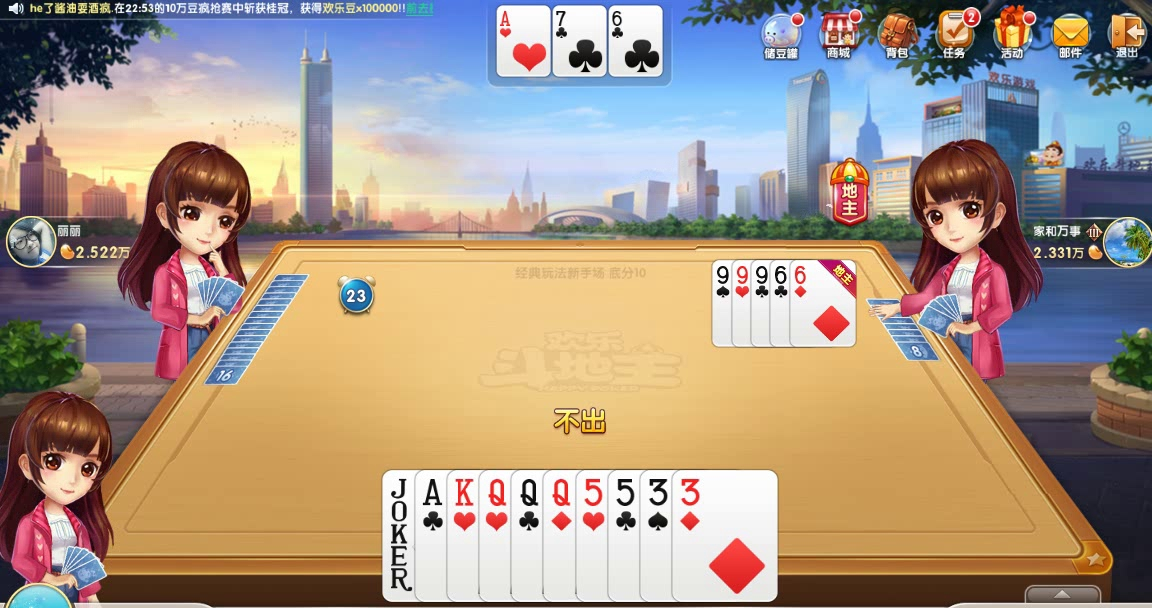12~1: (541, 468, 647, 602)
12~2: (509, 468, 615, 602)
12~3: (476, 468, 582, 602)
13~3: (447, 468, 553, 602)
14~2: (415, 469, 521, 603)
14~3: (495, 1, 550, 78)
17~3: (382, 469, 488, 603)
3~1: (671, 470, 777, 604)
3~4: (639, 470, 745, 604)
5~2: (605, 468, 711, 602)
5~3: (576, 468, 682, 602)
6~1: (790, 260, 857, 347)
6~2: (769, 259, 836, 346), (607, 2, 662, 79)
7~2: (551, 2, 606, 79)
9~2: (750, 260, 817, 347)
9~3: (730, 260, 797, 347)
9~4: (711, 259, 778, 346)
